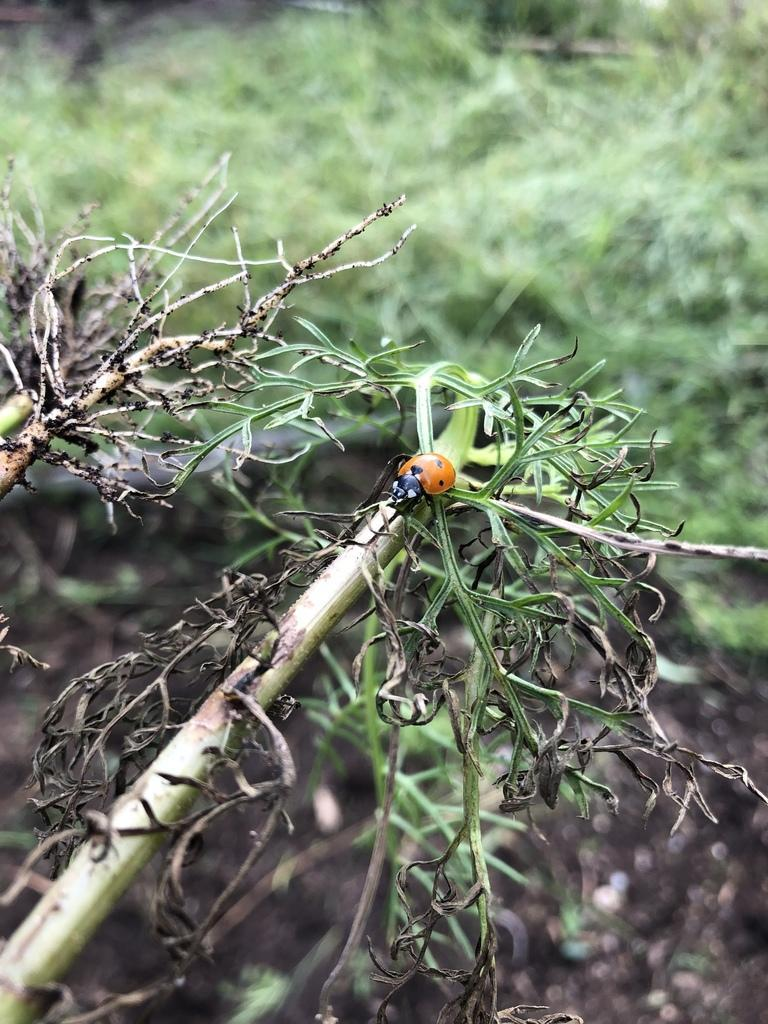ladybug: (381, 452, 459, 515)
